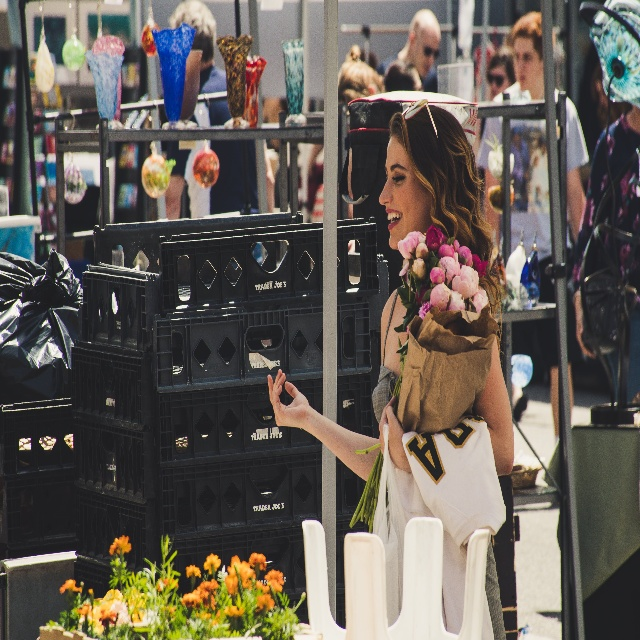Sin_guantes: (266, 363, 308, 435), (378, 391, 412, 476)
